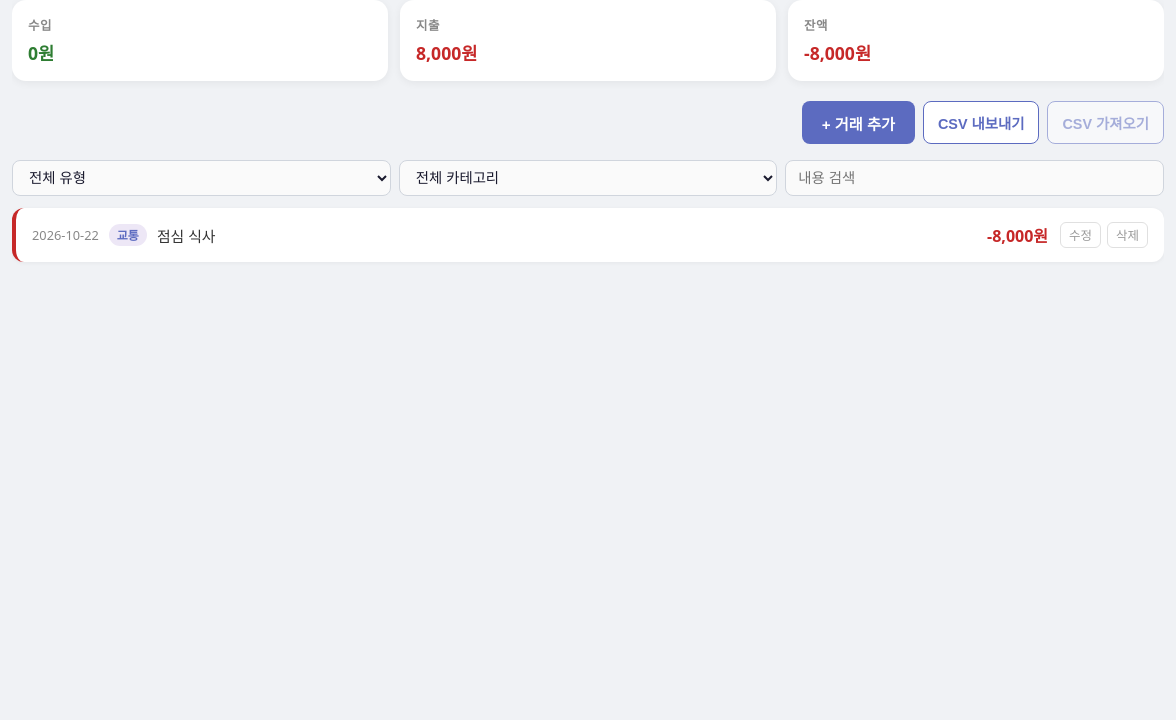
Test: (a) 수정을 누르면 폼이 기존 값으로 채워진다
Click the button with aria-label "수정: 점심 식사".
click(1081, 235)  # box left=1060, top=222, right=1101, bottom=248
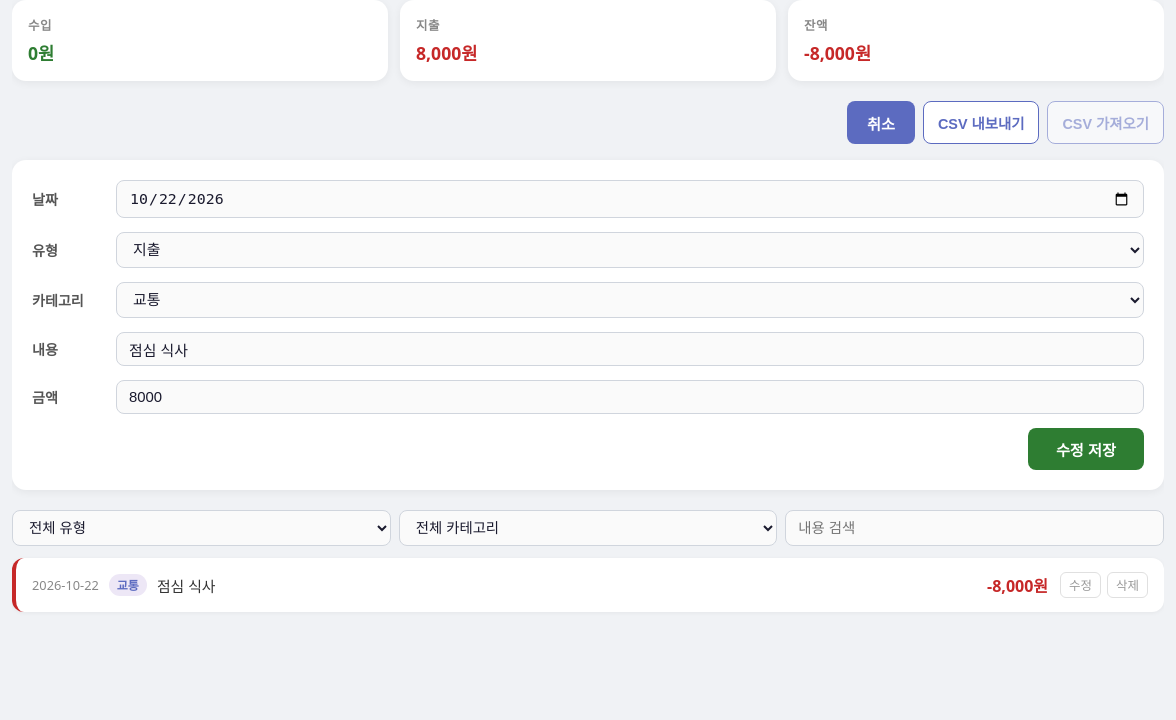
Check: the field with placeholder "거래 내용을 입력하세요" holds "점심 식사", box left=116, top=332, right=1144, bottom=366
Check: the number field with placeholder "금액 (원)" holds "8000", box left=116, top=380, right=1144, bottom=414
Check: the dropdown showing "교통" next to "카테고리" is shown, box left=116, top=282, right=1144, bottom=318
